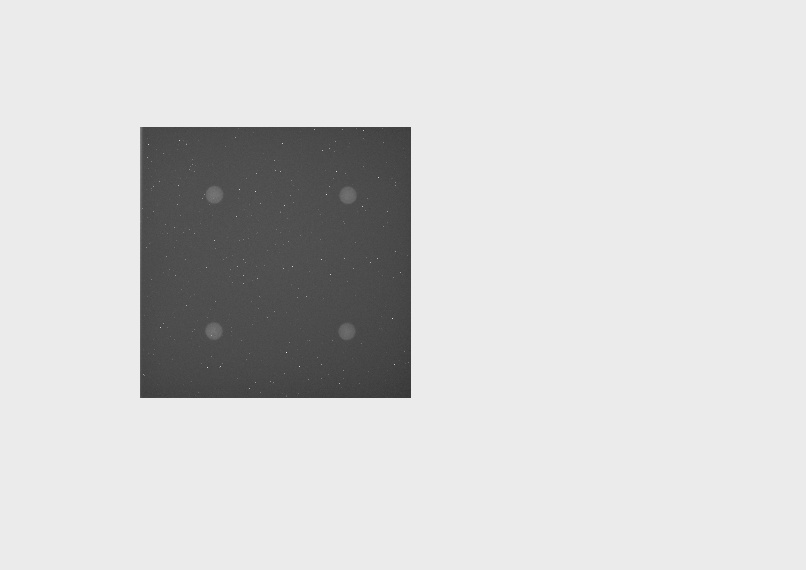bubble: (204, 320, 224, 341), (337, 320, 356, 341), (205, 185, 223, 204), (339, 185, 358, 203)
